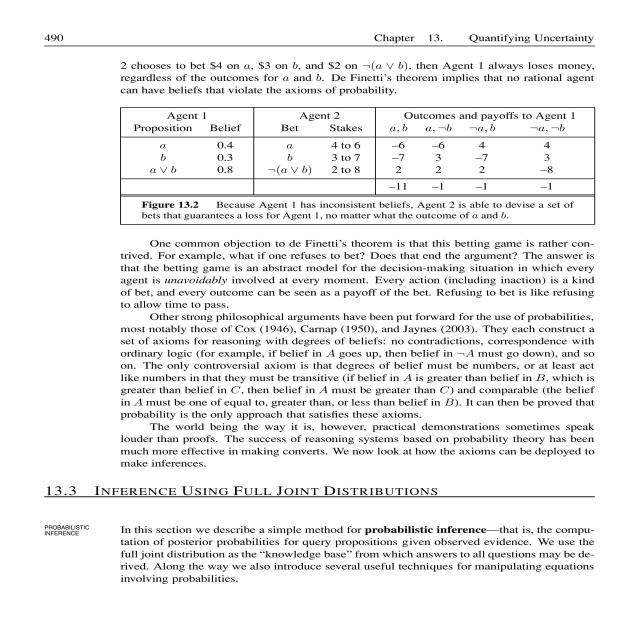diagram: (103, 99, 616, 230)
